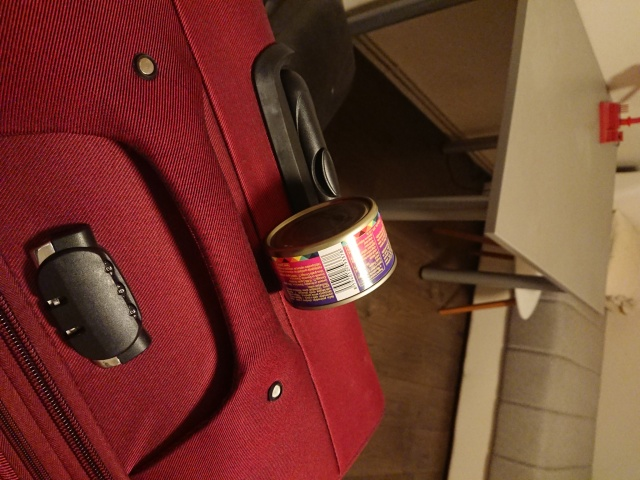Giana Tuna Salad Mexico 185g: (261, 191, 401, 314)
